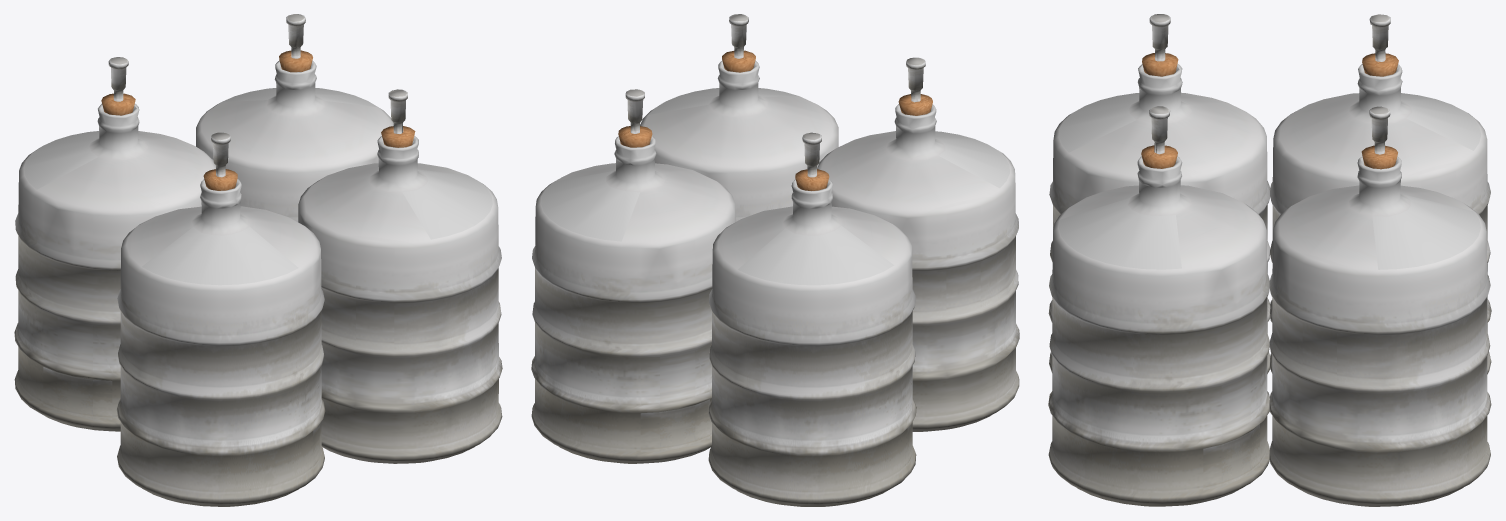
The model's file is PackEmptyCarboy.fbx.
The picture shows the model from 3 angles, left to right: view 1: azimuth 30°, elevation 25°; view 2: azimuth 150°, elevation 25°; view 3: azimuth 270°, elevation 25°; orthographic projection. The views are drawn at different scales.
Visible parts, largest first — view 1: Cylinder; view 2: Cylinder; view 3: Cylinder.
Part boxes in pixels (bbox=[...]): Cylinder: bbox=[14, 14, 502, 506]; Cylinder: bbox=[531, 14, 1019, 506]; Cylinder: bbox=[1048, 14, 1491, 506].
Bounding box in the file's own units: 0.5959 × 0.529 × 0.5977.
